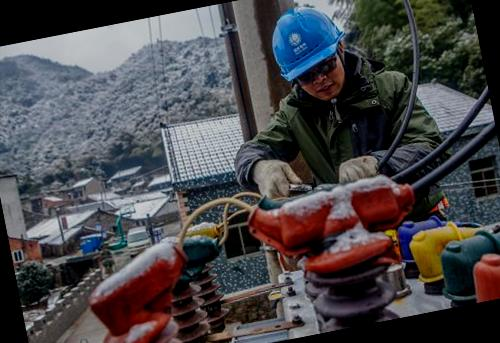person: (205, 0, 456, 242)
